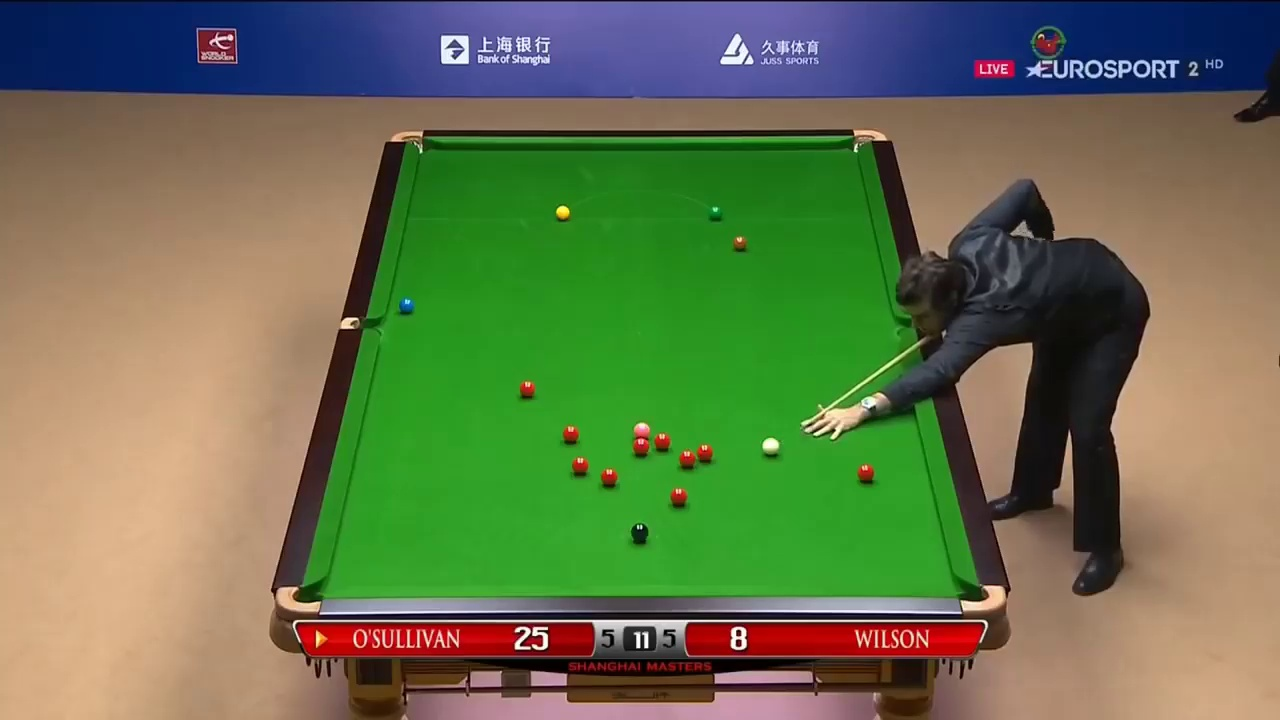ball: (759, 434, 780, 457), (629, 521, 650, 543), (560, 423, 582, 442), (856, 462, 875, 481), (599, 466, 618, 485), (669, 487, 688, 506), (695, 443, 712, 463), (632, 434, 649, 453), (398, 294, 414, 314), (519, 381, 537, 398), (554, 204, 570, 222), (707, 204, 726, 219), (571, 458, 590, 473), (679, 448, 693, 468), (733, 234, 747, 251)
